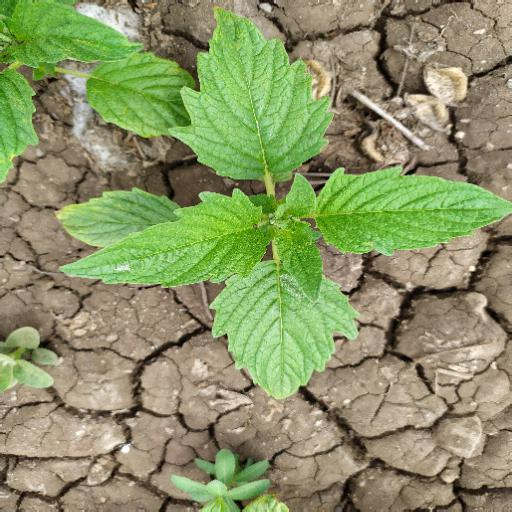crop: (56, 26, 512, 403)
